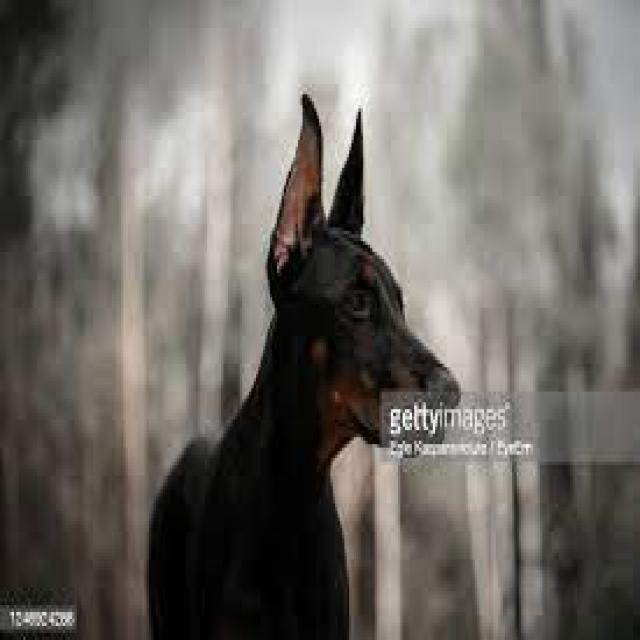Dog: (140, 89, 467, 640)
